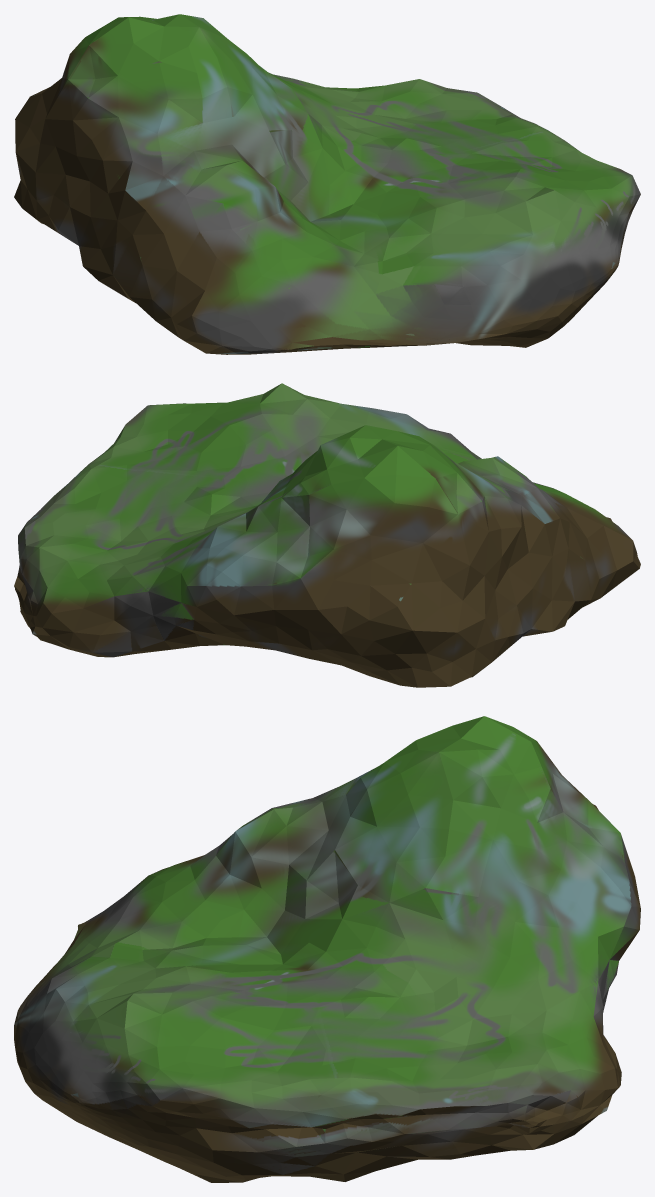
File: Terrain.fbx
3 views of the same model, one above another, from view 1: azimuth 30°, elevation 25°; view 2: azimuth 150°, elevation 25°; view 3: azimuth 270°, elevation 25° (orthographic). The views are drawn at different scales.
Visible parts, largest first — view 1: Plane; view 2: Plane; view 3: Plane.
Boxes of the visible parts, x1,y1,x2,y2 form: Plane: [14, 14, 640, 354]; Plane: [14, 383, 640, 687]; Plane: [14, 716, 640, 1182].
Size of the model in its own units: 156 by 88.44 by 160.
Materials: 1 (1 with a texture image).
